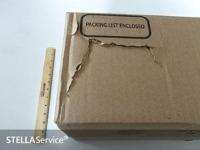damaged package: (62, 35, 167, 95)
undamaged: (52, 11, 198, 144)
